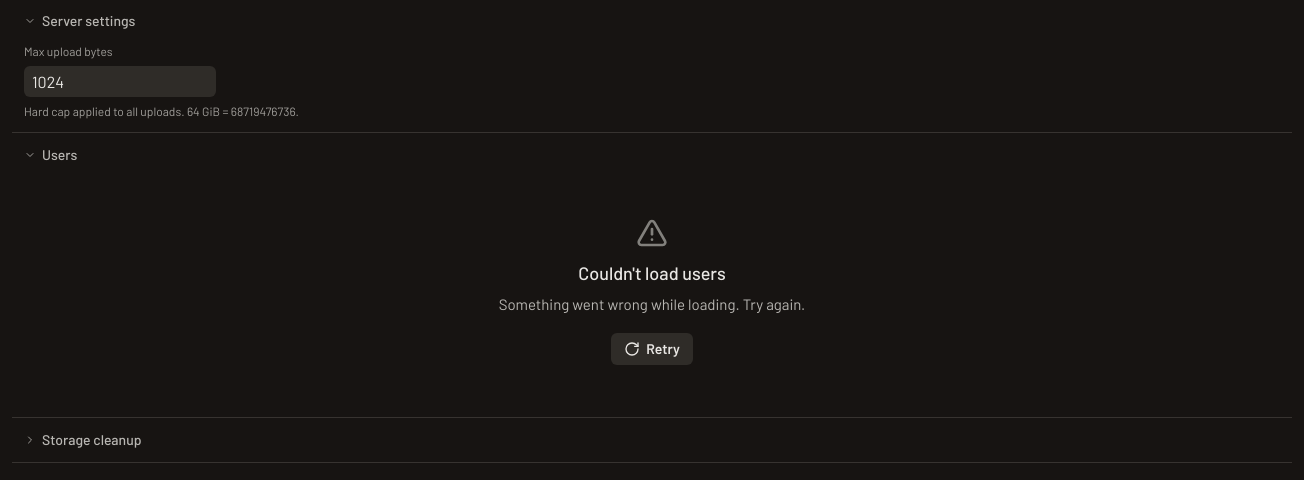
Test: ServerAdminSection › offers a Retry rather than claiming there are no users when the list fails
Check: the text "Couldn't load users" is shown, box [578,261,726,286]
What coordinates should you click on to do the following:
click the button "Retry"
I would click on:
 (652, 349)
Its box is [611,333,693,365].
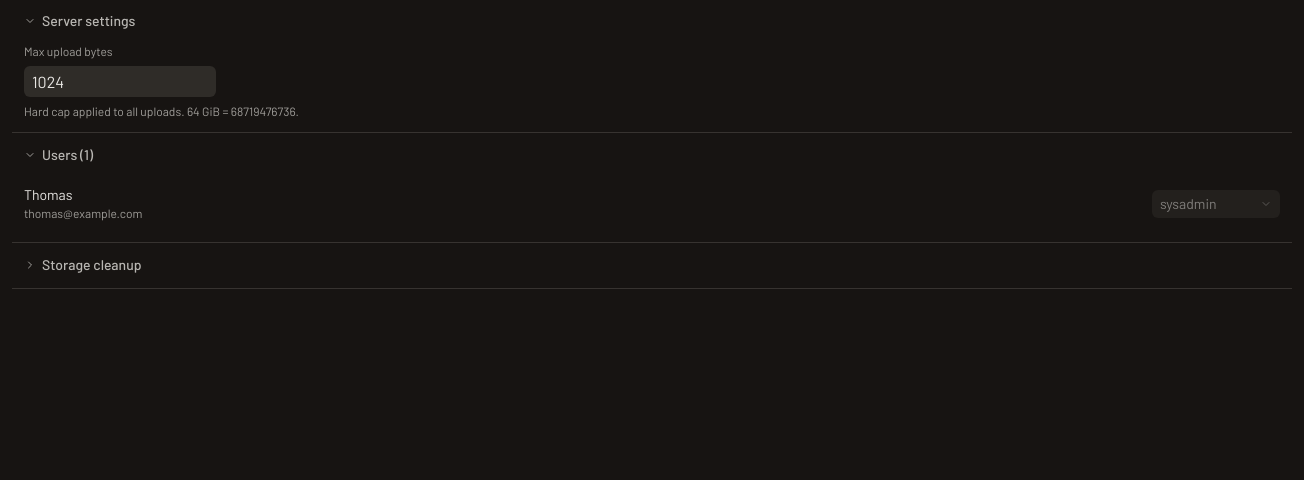
Check: the text "Thomas" is shown, box [24,186,72,203]
Check: the text "Users (1)" is shown, box [42,145,93,165]
